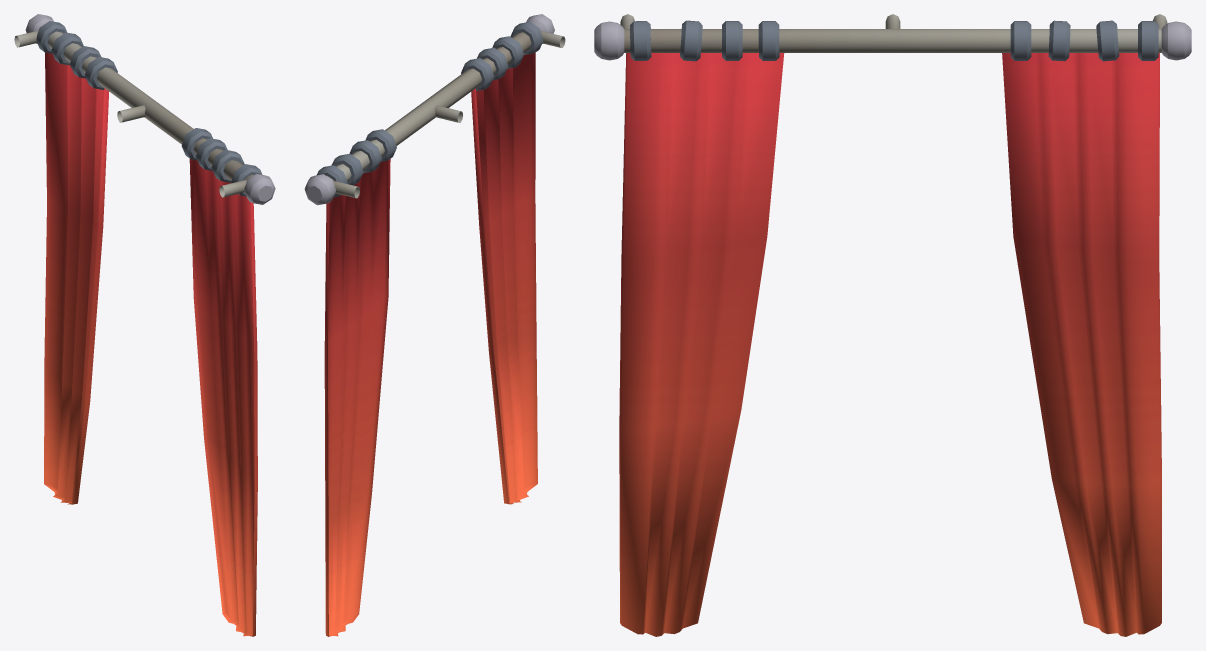
File: Curtains_Long_1_B_E.glb
3 views of the same model, side by side, from view 1: azimuth 30°, elevation 25°; view 2: azimuth 150°, elevation 25°; view 3: azimuth 270°, elevation 25° (orthographic). The views are drawn at different scales.
Parts seen in each view (by area): view 1: Curtains_Long_1_B_E; view 2: Curtains_Long_1_B_E; view 3: Curtains_Long_1_B_E.
Boxes of the visible parts, x1,y1,x2,y2 form: Curtains_Long_1_B_E: (14, 14, 275, 636); Curtains_Long_1_B_E: (304, 14, 565, 636); Curtains_Long_1_B_E: (594, 14, 1191, 636).
Bounding box in the file's own units: 0.2268 × 2.28 × 2.02.
2 materials, 2 textured.
